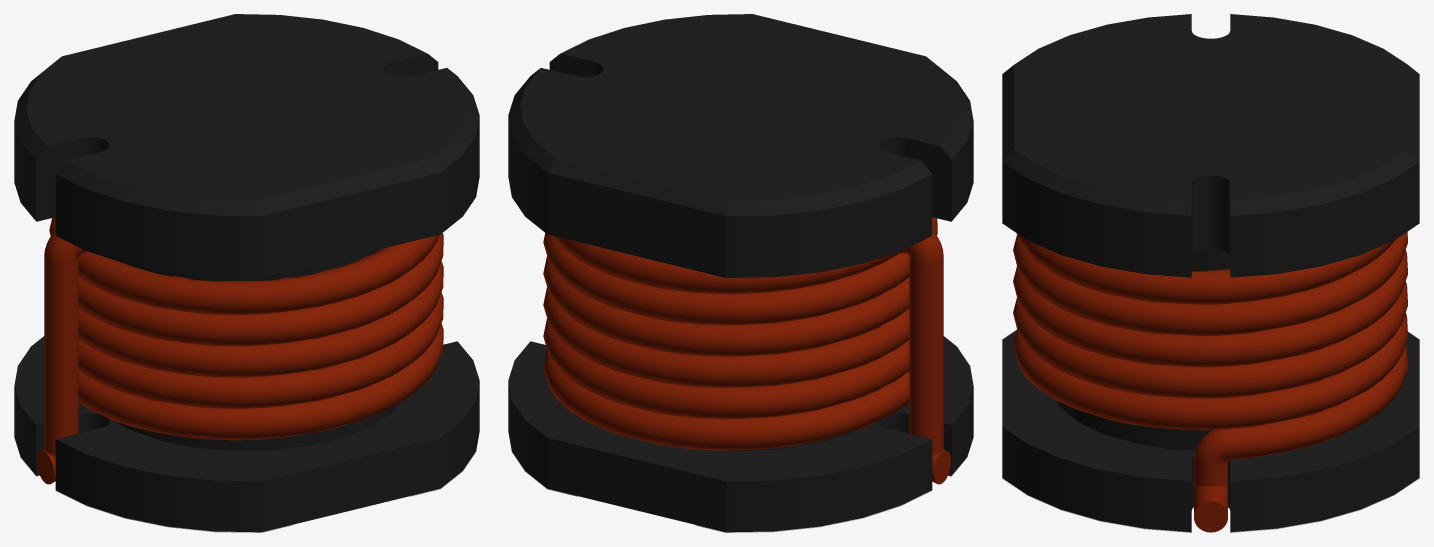
3 renders of one model, left to right at view 1: azimuth 30°, elevation 25°; view 2: azimuth 150°, elevation 25°; view 3: azimuth 270°, elevation 25°, orthographic.
Parts seen in each view (by area): view 1: Top_Chamfer_Solid, Wire5, Foundation_Solid, Wire8, Cylinder, Wire7; view 2: Top_Chamfer_Solid, Wire5, Foundation_Solid, Wire8, Wire7; view 3: Top_Chamfer_Solid, Wire5, Foundation_Solid, Cylinder, Wire1, Wire4, Wire3, Pinouts_Solid.
Part boxes in pixels (x1,y1,x2,y2): Top_Chamfer_Solid: (14,14,479,277); Wire5: (49,217,443,440); Foundation_Solid: (14,336,479,532); Wire8: (44,258,78,454); Cylinder: (114,249,400,450); Wire7: (44,231,83,263); Top_Chamfer_Solid: (508,14,973,277); Wire5: (543,217,937,450); Foundation_Solid: (508,336,973,532); Wire8: (909,258,943,454); Wire7: (904,231,943,264); Top_Chamfer_Solid: (1002,14,1419,277); Wire5: (1013,232,1407,460); Foundation_Solid: (1002,330,1419,532); Cylinder: (1056,248,1230,450); Wire1: (1194,486,1227,532); Wire4: (1194,429,1229,466); Wire3: (1194,461,1227,486); Pinouts_Solid: (1002,478,1419,532).
Bounding box in the file's own units: 0.0058 × 0.00451 × 0.0052.
